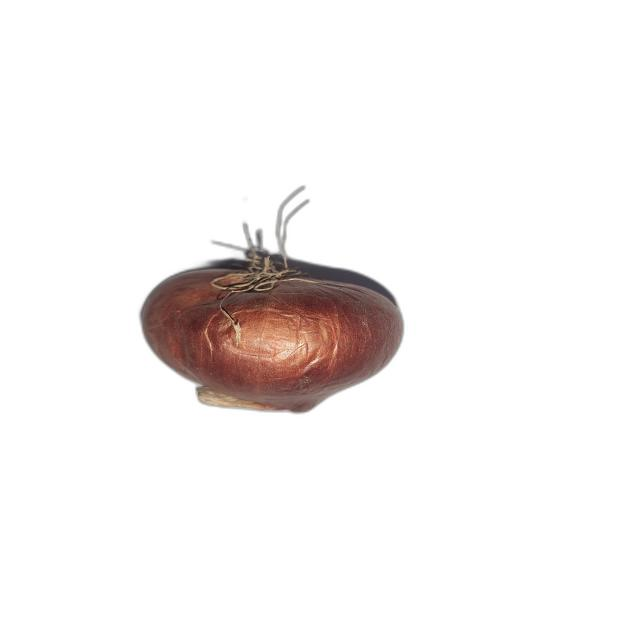onion: (139, 199, 406, 413)
